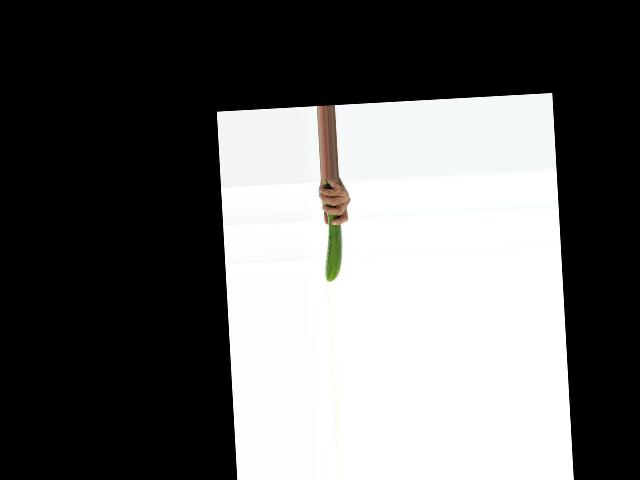cucumber: (319, 179, 344, 282)
